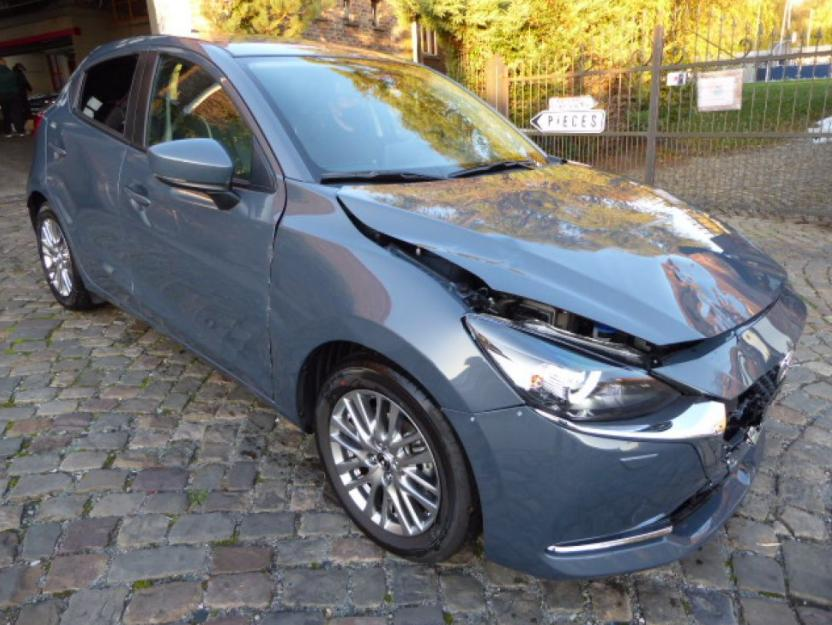Back-door: (46, 48, 143, 303)
Back-wheel: (35, 205, 92, 310)
Back-window: (81, 58, 135, 130)
Fender: (271, 179, 521, 424)
Front-bumper: (436, 294, 810, 576)
Front-door: (118, 47, 286, 399)
Front-wheel: (311, 361, 472, 554)
Front-window: (146, 59, 273, 192)
Grille: (723, 353, 795, 448)
Headlight: (464, 315, 676, 419)
Hood: (342, 160, 786, 348)
Mirror: (147, 139, 239, 211)
Quarter-panel: (25, 108, 76, 258)
Rocker-panel: (74, 252, 303, 430)
Roof: (89, 33, 406, 63)
Windshield: (241, 58, 551, 180)
